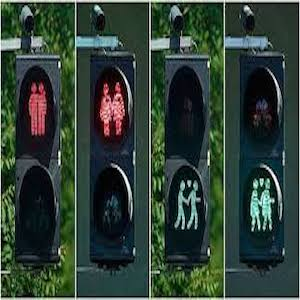green: (244, 178, 278, 230), (176, 176, 203, 236)
red: (93, 75, 127, 140), (24, 75, 54, 139)
